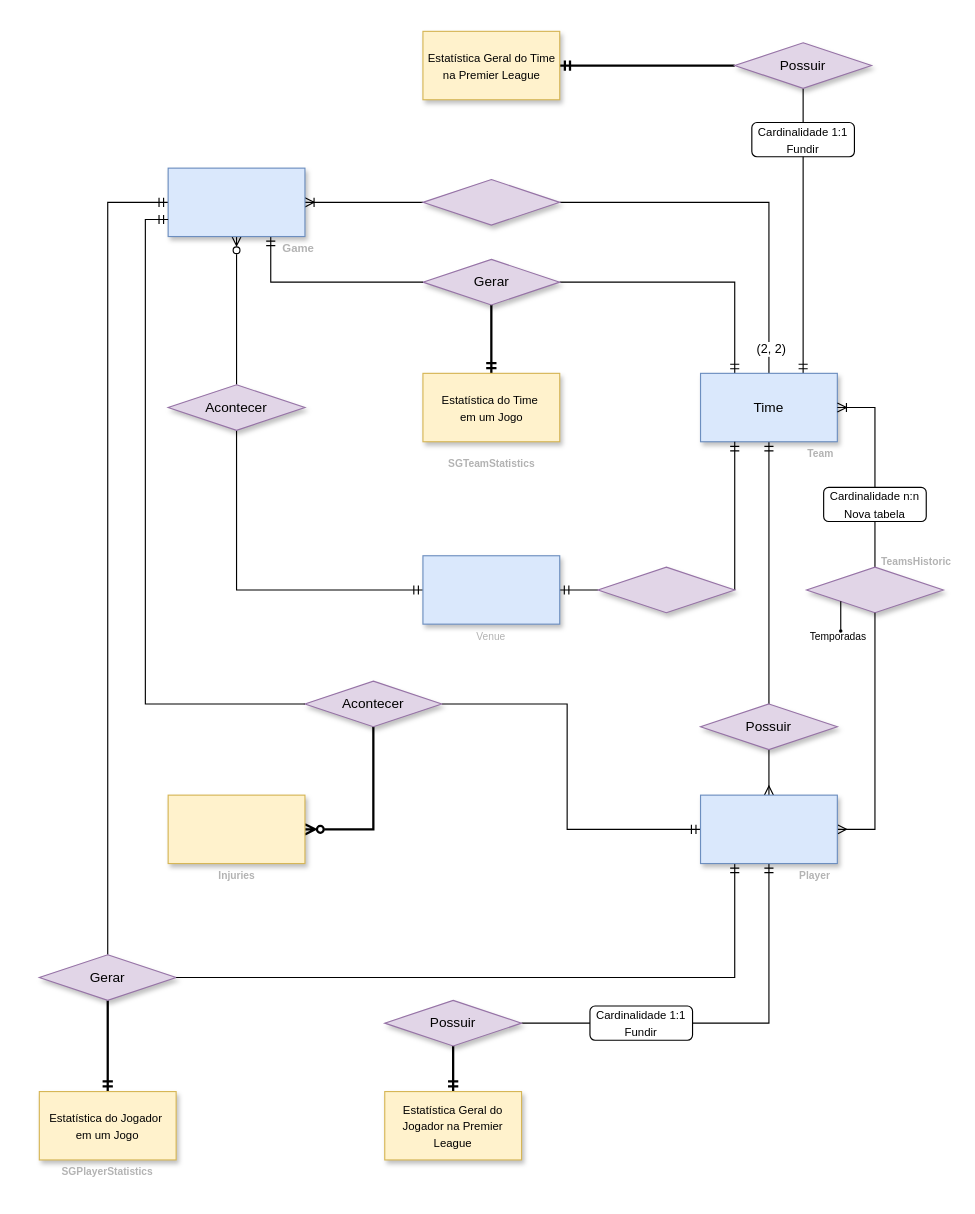
The diagram is 975 pixels wide and 1214 high, and some of its shapes have lost their labels. The centre of each missing label's shape, as x and y in pixels:
"Casa" belongs at [667,591].
"Estádio" belongs at [492,591].
"Ferimento" belongs at [237,830].
"Histórico Times" belongs at [875,591].
"Jogador" belongs at [769,830].
"Jogo" belongs at [237,203].
"Participar" belongs at [492,203].
